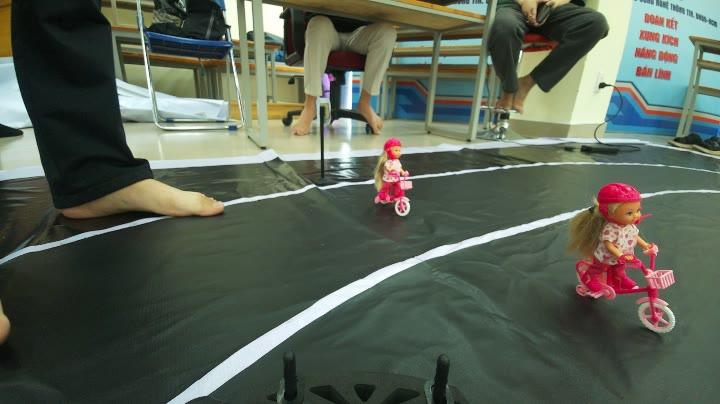pedestrian: (564, 167, 678, 339), (357, 134, 423, 214)
